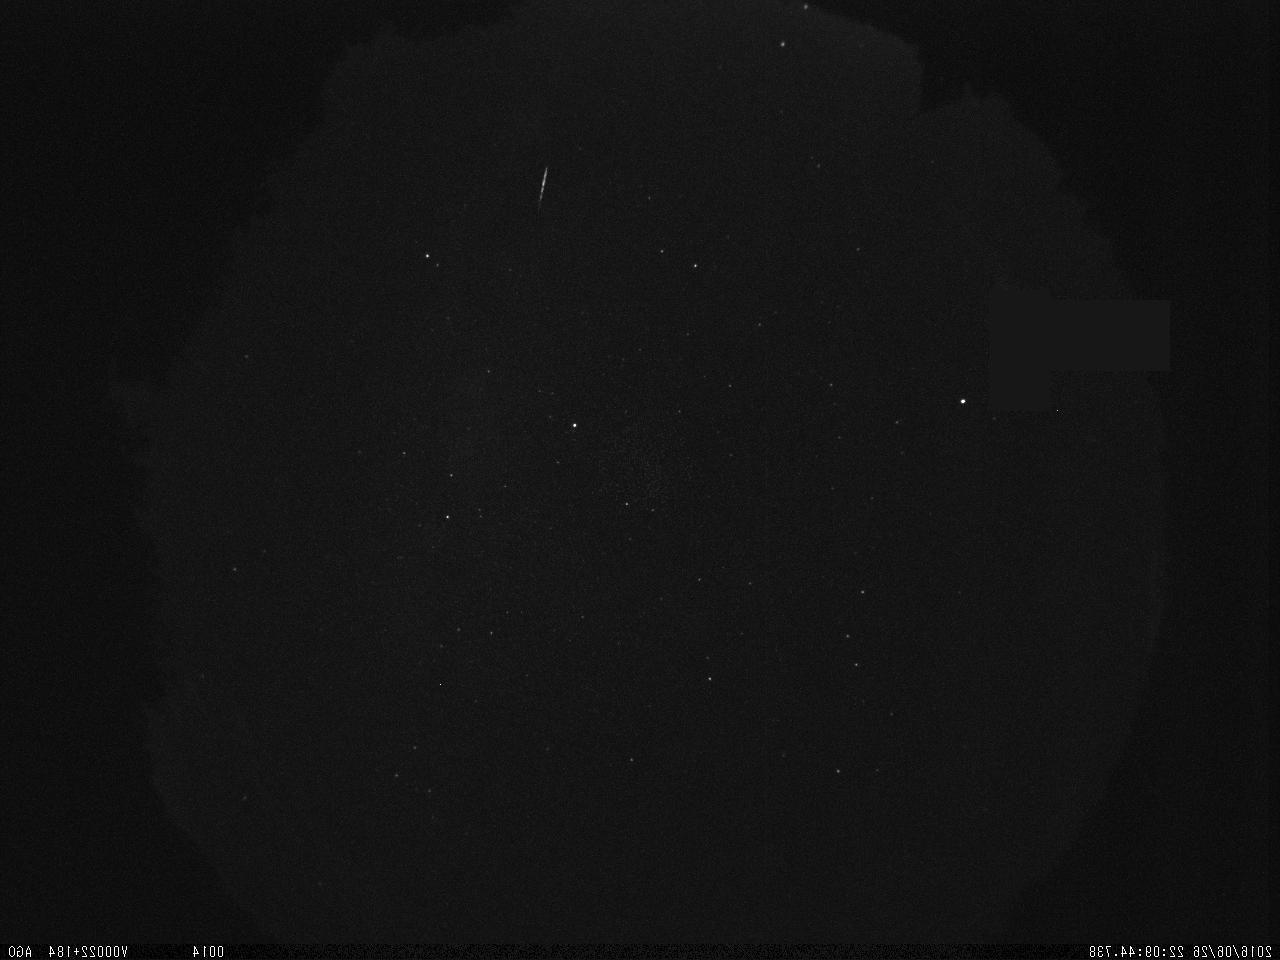meteor: (512, 141, 556, 229)
